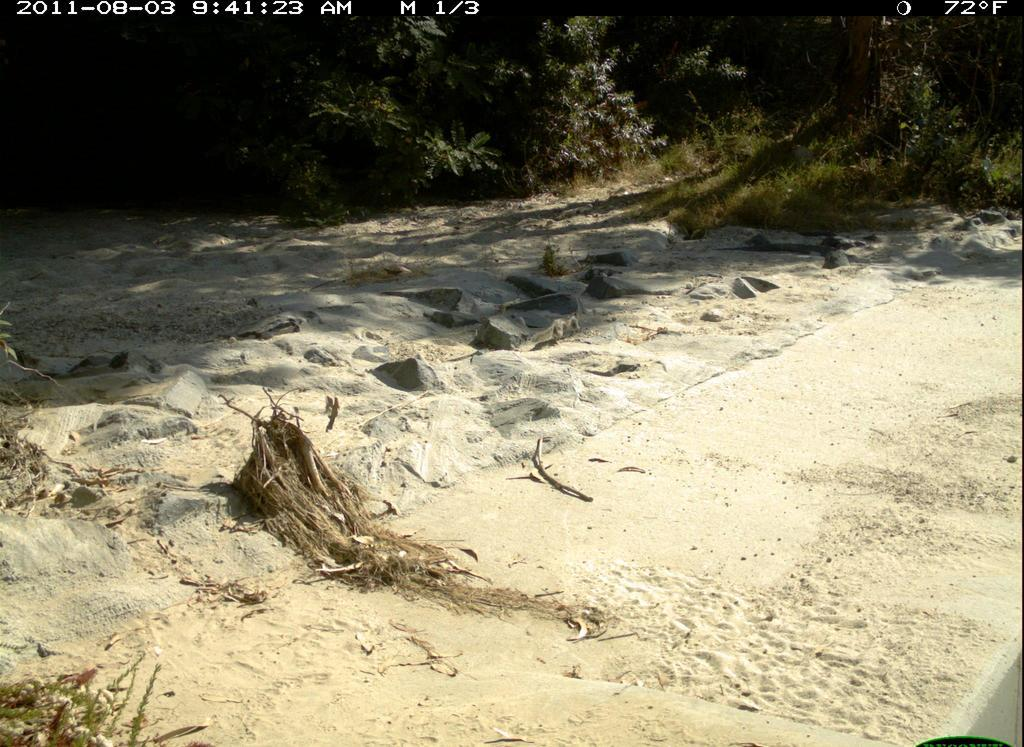squirrel: (531, 311, 584, 345)
